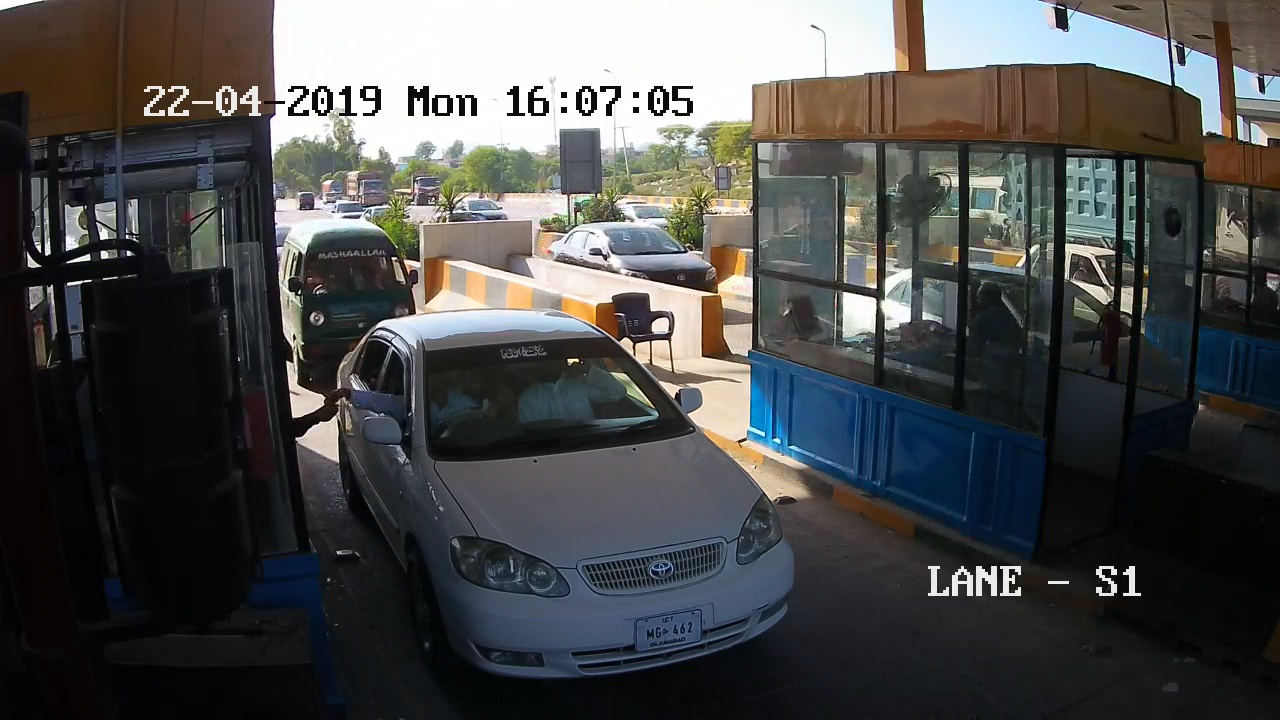Number Plate (Car): (633, 611, 707, 648)
